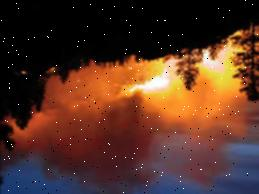fire: (110, 57, 182, 111), (201, 42, 239, 90)
